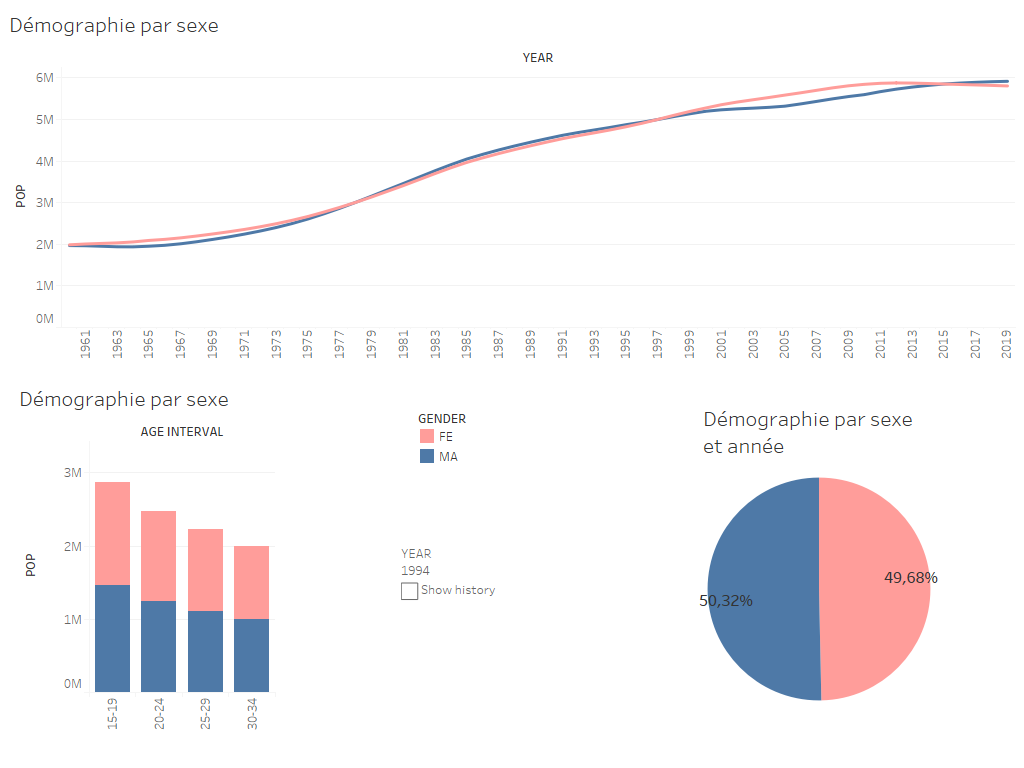

The page's visual inventory and layout, read from the dashboard file:
{"tool":"tableau","page":{"name":"DEMOG","canvas":[1024,768],"ordinal":1},"visuals":[{"type":"worksheet","title":"DEMOG_DWB_1","mark":"Automatic","rows":["POP"],"cols":["YEAR"],"box":[5.1,3.8,1009.7,356.2]},{"type":"worksheet","title":"DEMOG_DWB_4","mark":"Automatic","rows":["POP"],"cols":["AGE INTERVAL"],"box":[15.4,378.2,260.1,354.2]},{"type":"worksheet","title":"DEMOG_DWB_3","mark":"Pie","box":[698.7,398,241.4,321]},{"type":"legend","title":"DEMOG_DWB_1","param":"[msolap.1ifi4mp15fzyf614xw0c20uex6ge].[DIM GENDER].[GENDER].[none:GENDER:nk]","box":[417,408,143,65]},{"type":"currpage","title":"DEMOG_DWB_4","box":[401,544,185.2,117]}]}

Visuals, with their boxes in screenshot pixels (x1, y1, x2, y2), scaled from the page's 1024x768 canvas onto the 1024x768 screenshot:
"DEMOG_DWB_1" worksheet: [5, 4, 1015, 360]
"DEMOG_DWB_4" worksheet: [15, 378, 276, 732]
"DEMOG_DWB_3" worksheet (Pie marks): [699, 398, 940, 719]
"DEMOG_DWB_1" legend: [417, 408, 560, 473]
"DEMOG_DWB_4" currpage: [401, 544, 586, 661]
